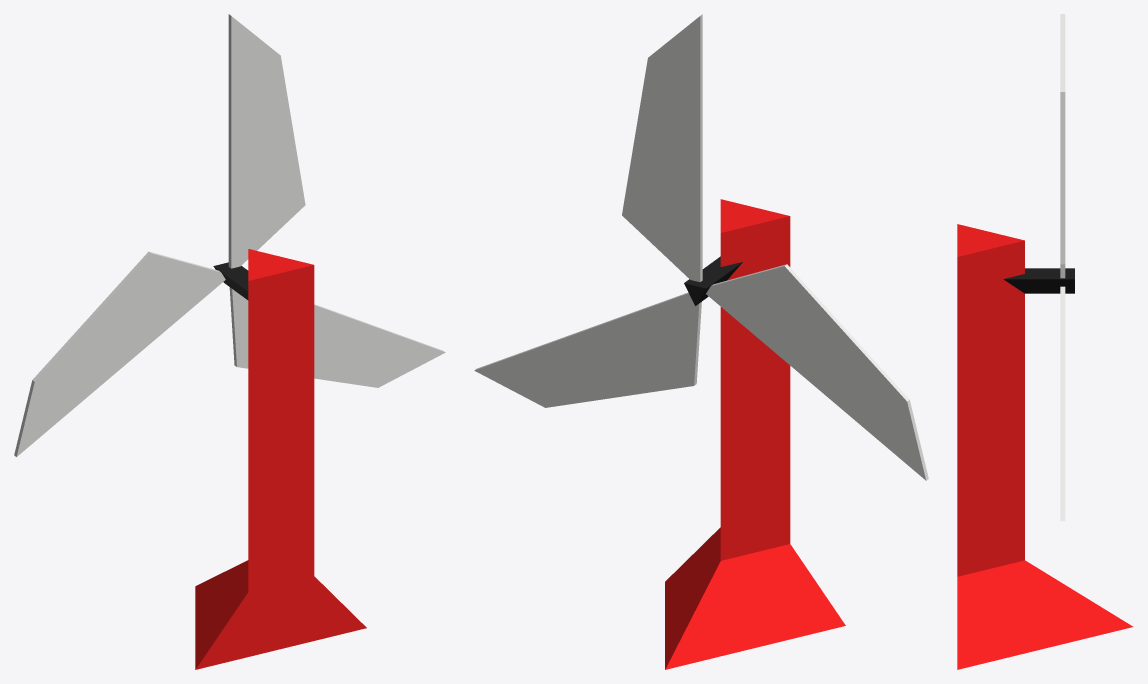
File: FanDesk.obj
The picture shows the model from 3 angles, left to right: view 1: azimuth 30°, elevation 25°; view 2: azimuth 150°, elevation 25°; view 3: azimuth 270°, elevation 25°; orthographic projection. The views are drawn at different scales.
Parts seen in each view (by area): view 1: object_1, object_3, object_2, object_4, object_5; view 2: object_1, object_3, object_2, object_4, object_5; view 3: object_1, object_2, object_5, object_4.
Boxes of the visible parts, bbox=[...] form: object_1: bbox=[195, 249, 366, 669]; object_3: bbox=[14, 251, 225, 456]; object_2: bbox=[228, 14, 305, 268]; object_4: bbox=[229, 287, 445, 387]; object_5: bbox=[213, 262, 248, 300]; object_1: bbox=[665, 199, 845, 669]; object_3: bbox=[706, 264, 928, 480]; object_2: bbox=[622, 14, 702, 281]; object_4: bbox=[474, 292, 701, 407]; object_5: bbox=[684, 256, 742, 305]; object_1: bbox=[957, 224, 1133, 669]; object_2: bbox=[1060, 14, 1065, 278]; object_5: bbox=[1003, 268, 1074, 293]; object_4: bbox=[1060, 286, 1065, 521].
Bounding box in the file's own units: 34.64 × 46 × 12.
